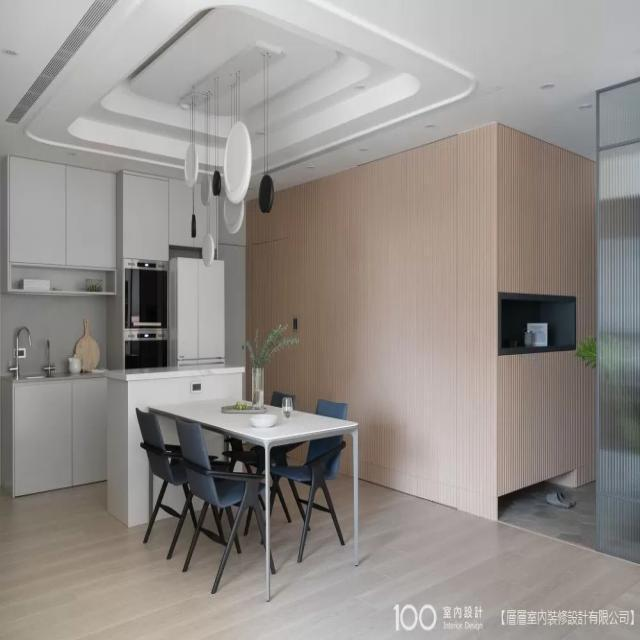table: (126, 374, 376, 603)
